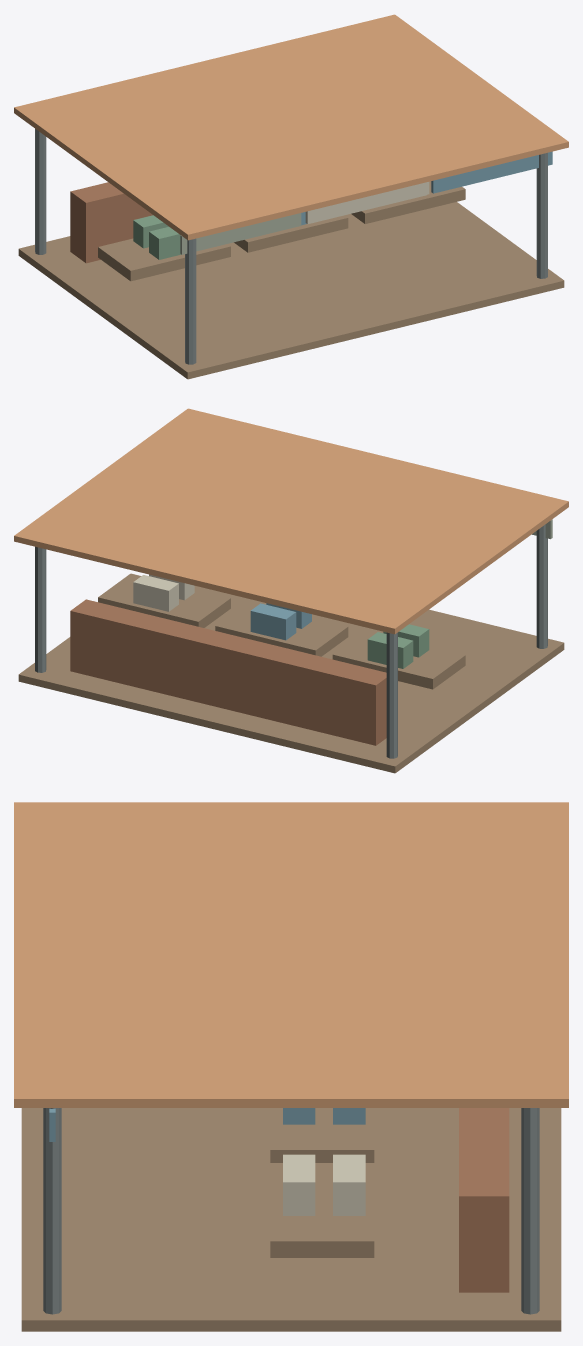
File: settlement_market.glb
3 views of the same model, one above another, from view 1: azimuth 30°, elevation 25°; view 2: azimuth 150°, elevation 25°; view 3: azimuth 270°, elevation 25° (orthographic). The views are drawn at different scales.
Visible parts, largest first — view 1: patchwork awning, market deck, back stores, trade counter, hanging fabric.001, trade counter.002, hanging fabric, trade counter.001, hanging fabric.002, scaffold post.001, scaffold post, scaffold post.003 (+2 smaller); view 2: patchwork awning, back stores, market deck, trade counter, trade counter.001, trade counter.002, scaffold post, scaffold post.002, scaffold post.001, stock crate.002, stock crate.004, stock crate (+1 smaller); view 3: patchwork awning, market deck, back stores, trade counter.002, trade counter.001, scaffold post.002, scaffold post.003, stock crate.004, stock crate.005.
Boxes of the visible parts, x1,y1,x2,y2 form: patchwork awning: (14,14,568,240); market deck: (18,202,564,379); back stores: (70,182,152,263); trade counter: (98,238,230,281); hanging fabric.001: (305,182,426,223); trade counter.002: (351,181,465,223); hanging fabric: (180,213,301,254); trade counter.001: (234,215,348,252); hanging fabric.002: (431,151,552,193); scaffold post.001: (185,238,196,364); scaffold post: (35,129,46,254); scaffold post.003: (536,152,547,278); patchwork awning: (14,408,568,634); back stores: (70,599,386,745); market deck: (18,586,564,773); trade counter: (332,630,465,689); trade counter.001: (215,602,348,656); trade counter.002: (98,573,230,627); scaffold post: (386,632,397,758); scaffold post.002: (35,546,46,672); scaffold post.001: (536,524,547,648); stock crate.002: (250,603,296,640); stock crate.004: (133,575,178,611); stock crate: (367,632,413,668); patchwork awning: (14,802,568,1107); market deck: (21,1108,561,1331); back stores: (459,1108,509,1292); trade counter.002: (270,1163,374,1257); trade counter.001: (270,1108,374,1162); scaffold post.002: (521,1108,539,1314); scaffold post.003: (43,1108,61,1314); stock crate.004: (333,1154,365,1215); stock crate.005: (283,1154,315,1215).
Bounding box in the file's own units: 9.1 × 3.35 × 7.2.
